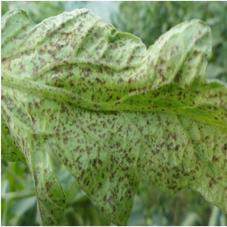Bacterial Spot: (0, 5, 227, 226)
